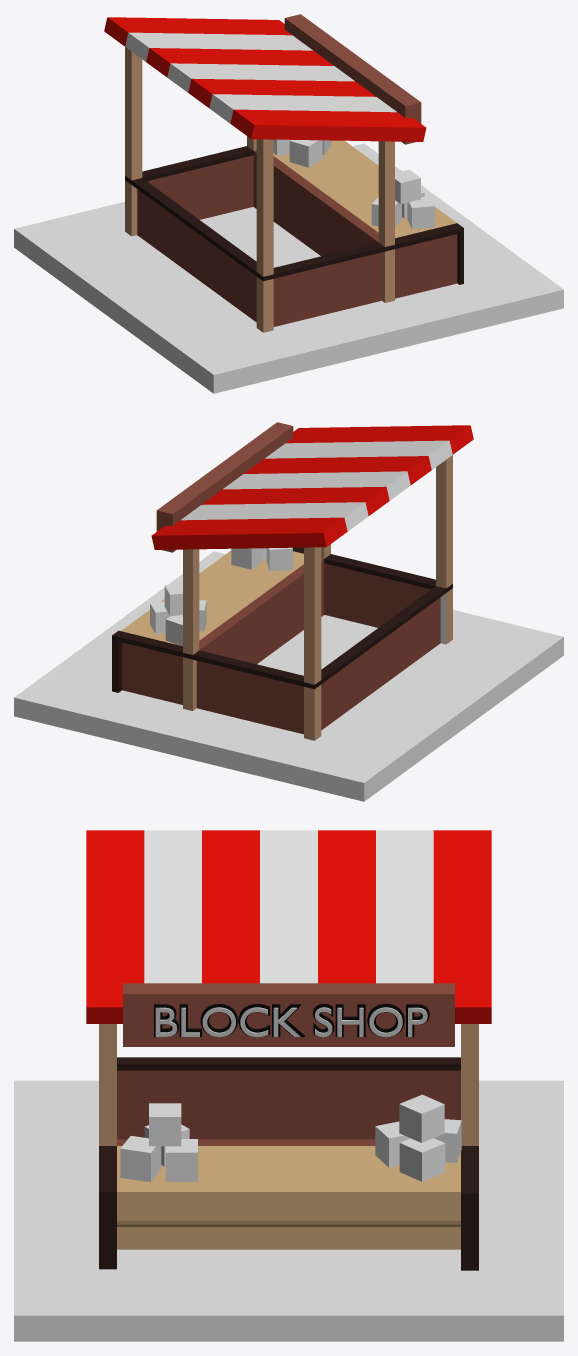
File: BlockShop.fbx
3 views of the same model, one above another, from view 1: azimuth 30°, elevation 25°; view 2: azimuth 150°, elevation 25°; view 3: azimuth 270°, elevation 25° (orthographic). The views are drawn at different scales.
Parts seen in each view (by area): view 1: Counter, FLoor, FLoor.001, Cube, Cube.006, Cube.003, Cube.005; view 2: FLoor, Counter, FLoor.001, Cube, Cube.004, Cube.002, Cube.008, Cube.007, Cube.001; view 3: FLoor, Counter, FLoor.001, Cube, Text, Text.001, Cube.008, Cube.007, Cube.003, Cube.005, Cube.004, Cube.006 (+1 smaller).
Part boxes in pixels (x1,y1,x2,y2): Counter: (125,47,463,332); FLoor: (14,143,563,393); FLoor.001: (104,17,426,141); Cube: (284,14,421,144); Cube.006: (289,140,322,167); Cube.003: (407,196,434,229); Cube.005: (395,169,420,204); FLoor: (14,551,563,801); Counter: (112,455,452,740); FLoor.001: (151,425,473,549); Cube: (156,422,293,552); Cube.004: (231,548,263,569); Cube.002: (266,547,292,571); Cube.008: (164,583,182,615); Cube.007: (150,601,171,633); Cube.001: (165,615,182,646); FLoor: (14,1080,563,1341); Counter: (99,1024,478,1270); FLoor.001: (86,830,491,1023); Cube: (123,983,454,1046); Text: (155,1007,427,1037); Text.001: (154,1004,429,1037); Cube.008: (399,1094,444,1142); Cube.007: (399,1138,445,1181); Cube.003: (120,1136,161,1182); Cube.005: (149,1103,181,1146); Cube.004: (165,1139,197,1181); Cube.006: (375,1121,410,1167).
Size of the model in its own units: 890 by 585 by 879.
